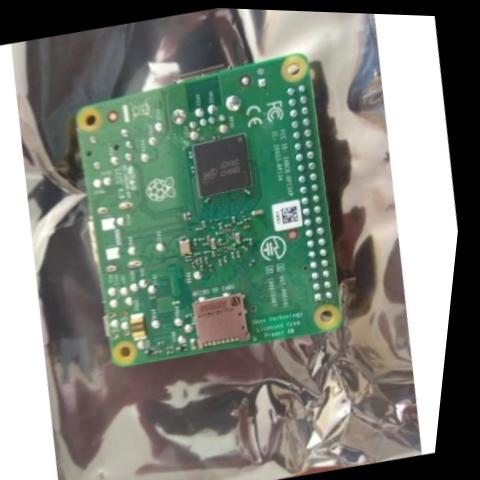Raspberry-Pi-3-Model-A-: (42, 34, 377, 384)
